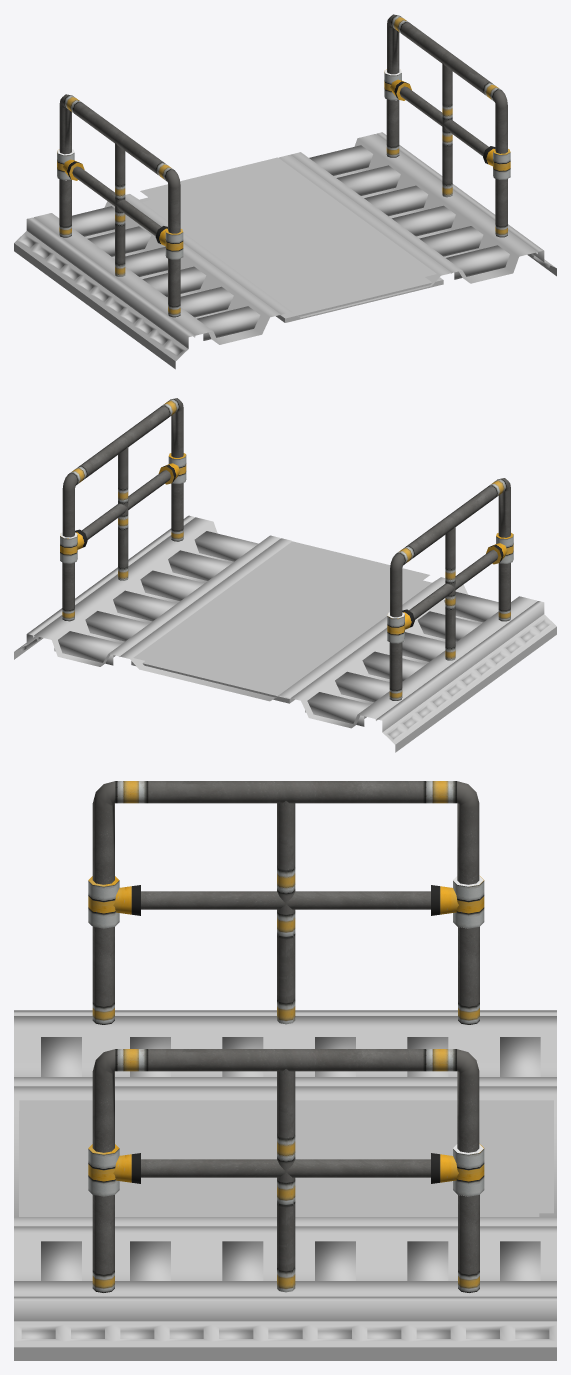
File: railing_walkway_small.fbx
The picture shows the model from 3 angles, top to bottom: view 1: azimuth 30°, elevation 25°; view 2: azimuth 150°, elevation 25°; view 3: azimuth 270°, elevation 25°; orthographic projection. The views are drawn at different scales.
Parts seen in each view (by area): view 1: polySurface1 (×2), pPlane1, tall_railing:polySurface1, polySurface3, flat_wakway, polySurface2, polySurface198, polySurface199, polySurface171, polySurface169, polySurface167, polySurface170 (+6 smaller); view 2: polySurface1 (×2), pPlane1, tall_railing:polySurface1, polySurface3, flat_wakway, polySurface2, polySurface171, polySurface189, polySurface198, polySurface170, polySurface167, polySurface169 (+6 smaller); view 3: polySurface1 (×2), pPlane1, tall_railing:polySurface1, polySurface29, polySurface28, flat_wakway, polySurface170, polySurface168, polySurface198, polySurface189, polySurface171, polySurface169 (+6 smaller).
Boxes of the visible parts, bbox=[...] form: polySurface1 (×2): bbox=[26, 14, 544, 348]; pPlane1: bbox=[140, 157, 436, 307]; tall_railing:polySurface1: bbox=[57, 94, 183, 317]; polySurface3: bbox=[14, 231, 188, 361]; flat_wakway: bbox=[142, 200, 443, 322]; polySurface2: bbox=[14, 243, 175, 369]; polySurface198: bbox=[446, 245, 509, 279]; polySurface199: bbox=[197, 306, 260, 340]; polySurface171: bbox=[309, 145, 372, 175]; polySurface169: bbox=[364, 185, 428, 216]; polySurface167: bbox=[419, 226, 483, 256]; polySurface170: bbox=[336, 165, 400, 195]; polySurface1 (×2): bbox=[26, 398, 544, 732]; pPlane1: bbox=[133, 541, 429, 691]; tall_railing:polySurface1: bbox=[387, 478, 513, 700]; polySurface3: bbox=[382, 614, 556, 744]; flat_wakway: bbox=[131, 580, 431, 703]; polySurface2: bbox=[395, 627, 556, 752]; polySurface171: bbox=[54, 631, 121, 665]; polySurface189: bbox=[305, 692, 370, 726]; polySurface198: bbox=[194, 531, 258, 561]; polySurface170: bbox=[85, 611, 149, 641]; polySurface167: bbox=[168, 550, 231, 580]; polySurface169: bbox=[113, 590, 176, 621]; polySurface1 (×2): bbox=[14, 1010, 556, 1321]; pPlane1: bbox=[19, 1100, 553, 1213]; tall_railing:polySurface1: bbox=[88, 781, 484, 1024]; polySurface29: bbox=[14, 1321, 556, 1347]; polySurface28: bbox=[14, 1347, 556, 1360]; flat_wakway: bbox=[19, 1111, 539, 1216]; polySurface170: bbox=[407, 1241, 448, 1280]; polySurface168: bbox=[222, 1241, 263, 1280]; polySurface198: bbox=[41, 1241, 81, 1280]; polySurface189: bbox=[500, 1037, 540, 1076]; polySurface171: bbox=[500, 1241, 540, 1280]; polySurface169: bbox=[315, 1241, 355, 1280].
Size of the model in its own units: 5.51 by 2.37 by 4.05.
